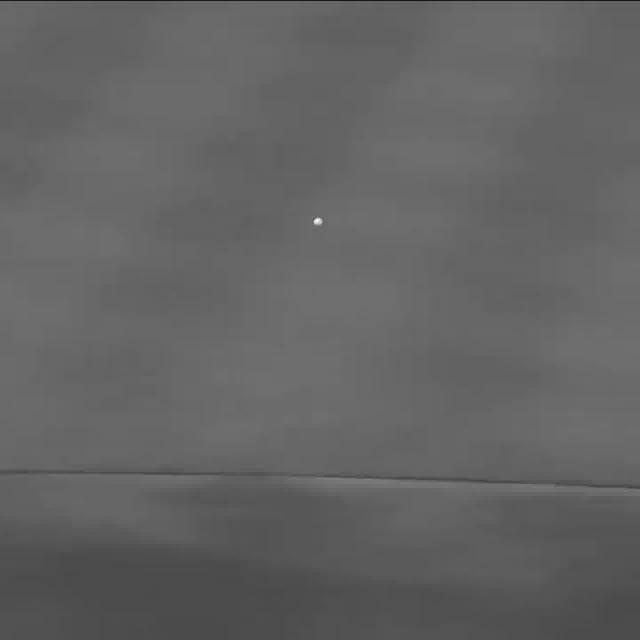baseball: (314, 218, 323, 226)
